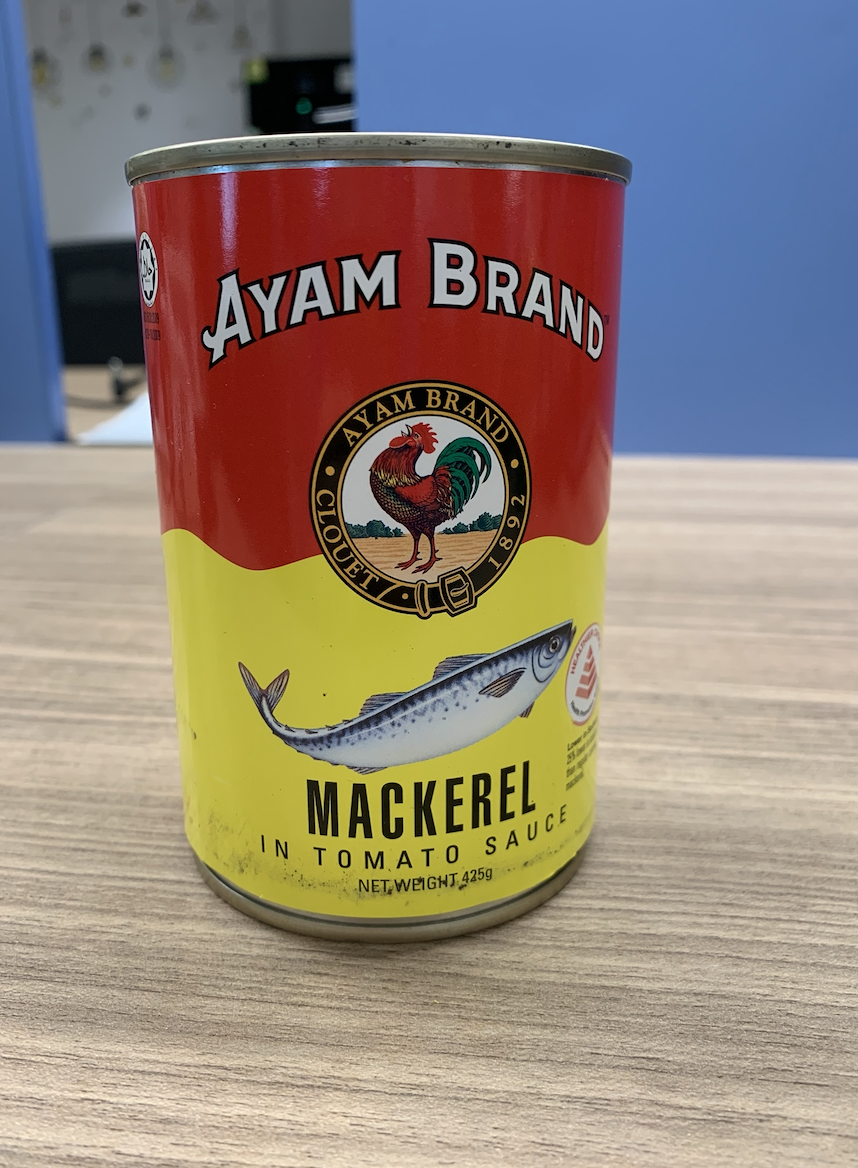sardines_400g-499g: (195, 205, 610, 907)
